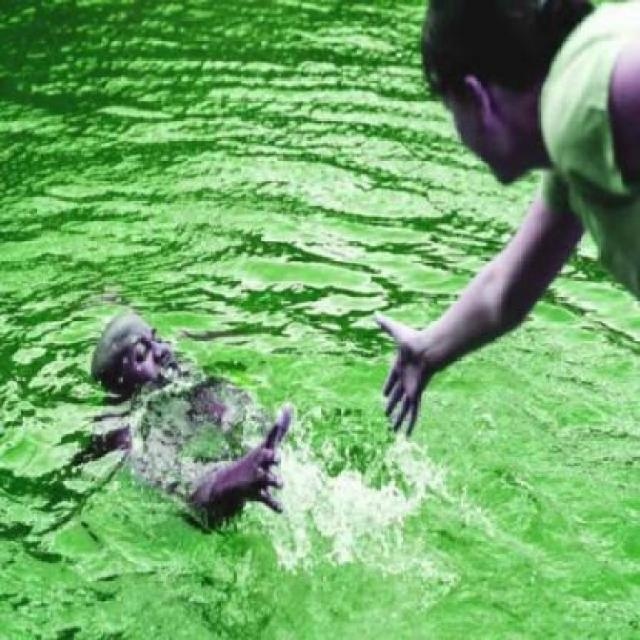drowning: (51, 260, 342, 598)
